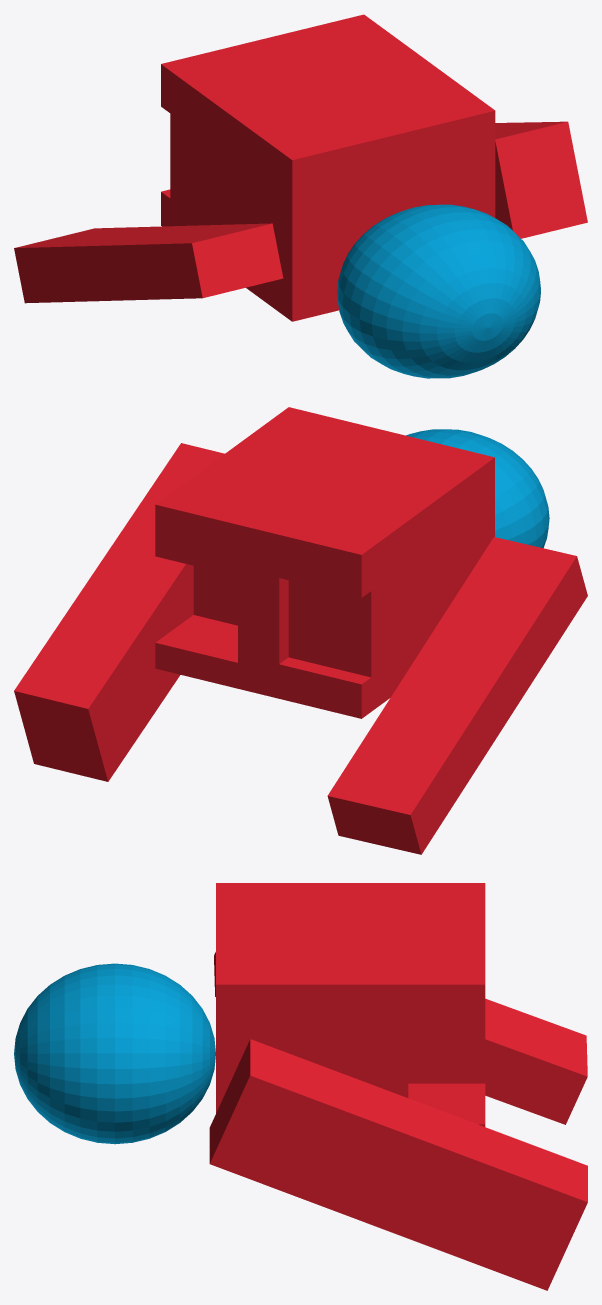
Rendered from tinker.obj.
3 views of the same model, one above another, from view 1: azimuth 30°, elevation 25°; view 2: azimuth 150°, elevation 25°; view 3: azimuth 270°, elevation 25° (orthographic). The views are drawn at different scales.
Visible parts, largest first — view 1: group_0_15277357, group_0_40919; view 2: group_0_15277357, group_0_40919; view 3: group_0_15277357, group_0_40919.
Boxes of the visible parts, x1=… form: group_0_15277357: x1=14, y1=14, x2=587, y2=321; group_0_40919: x1=337, y1=204, x2=540, y2=378; group_0_15277357: x1=14, y1=407, x2=587, y2=854; group_0_40919: x1=406, y1=429, x2=549, y2=548; group_0_15277357: x1=209, y1=883, x2=587, y2=1290; group_0_40919: x1=14, y1=963, x2=215, y2=1144.
Size of the model in its own units: 48 by 30 by 59.66.
